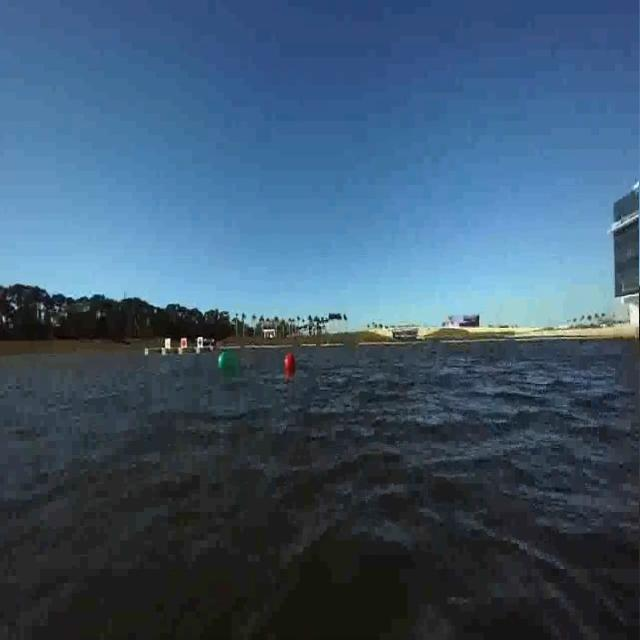green-buoy: (217, 348, 239, 378)
red-buoy: (285, 354, 296, 371)
